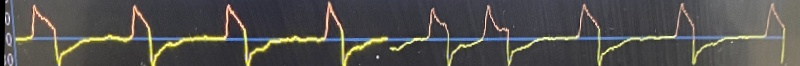normal_flow: (14, 0, 800, 66)
